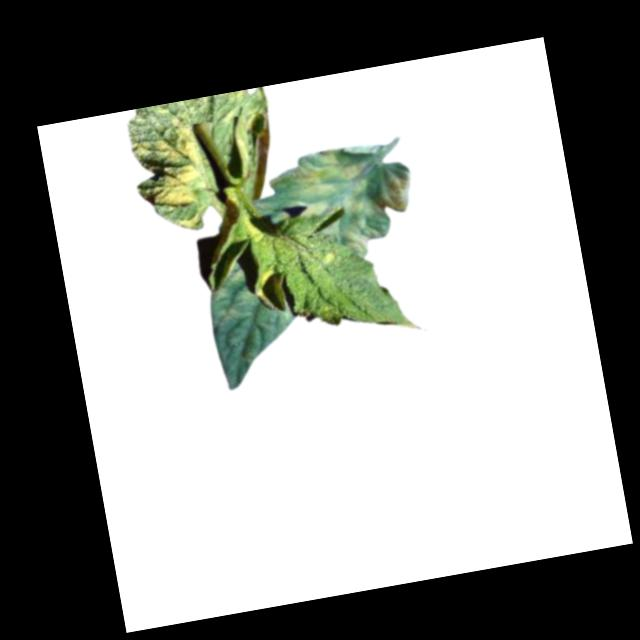Leaf_Mold: (265, 138, 425, 270), (131, 119, 218, 239), (203, 258, 259, 327), (253, 265, 290, 313)
